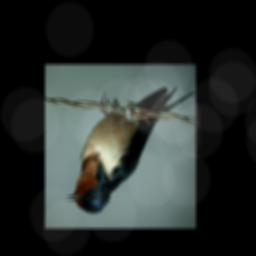Swallow: (66, 87, 196, 214)
